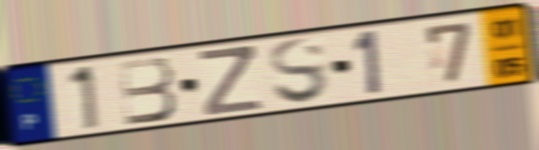1: (349, 27, 384, 98), (66, 63, 102, 132)
7: (421, 19, 474, 86)
B: (116, 55, 180, 128)
S: (266, 36, 332, 107)
Z: (196, 44, 265, 119)
